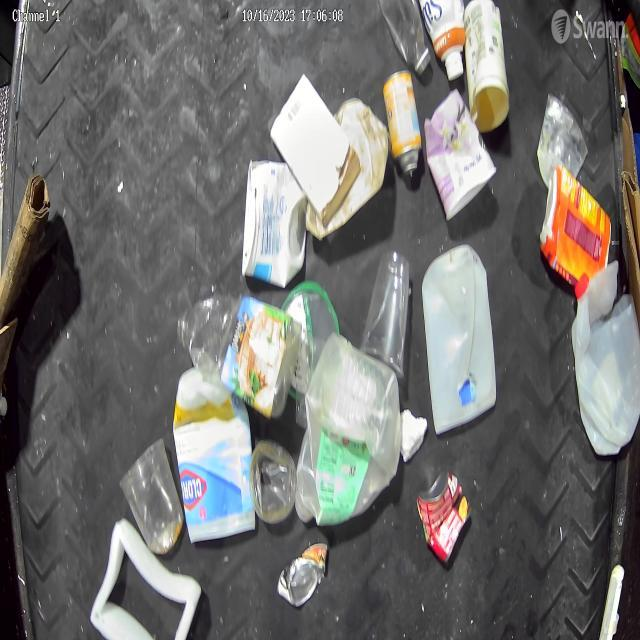can: (414, 464, 469, 557)
milk_jug: (297, 336, 402, 538), (422, 244, 500, 434), (568, 261, 640, 448)
non_white_jug: (171, 364, 251, 530), (545, 158, 608, 290)
plastic_bottle: (178, 287, 289, 407), (376, 0, 434, 75)
